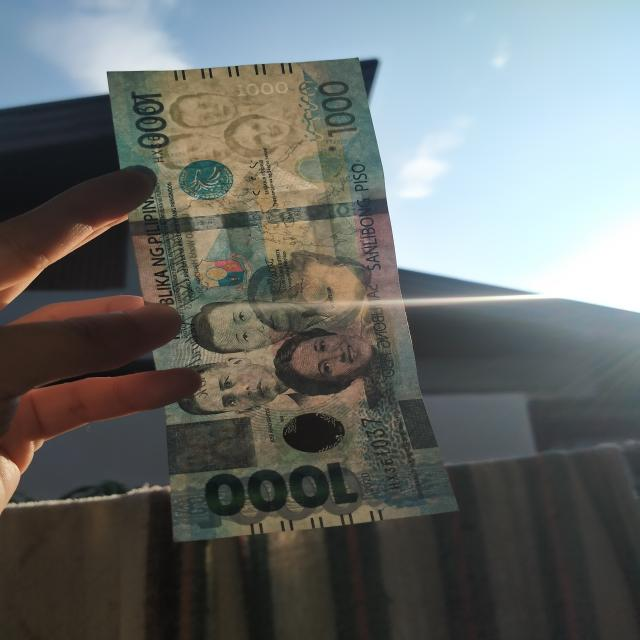see_through_mark: (297, 79, 325, 142)
